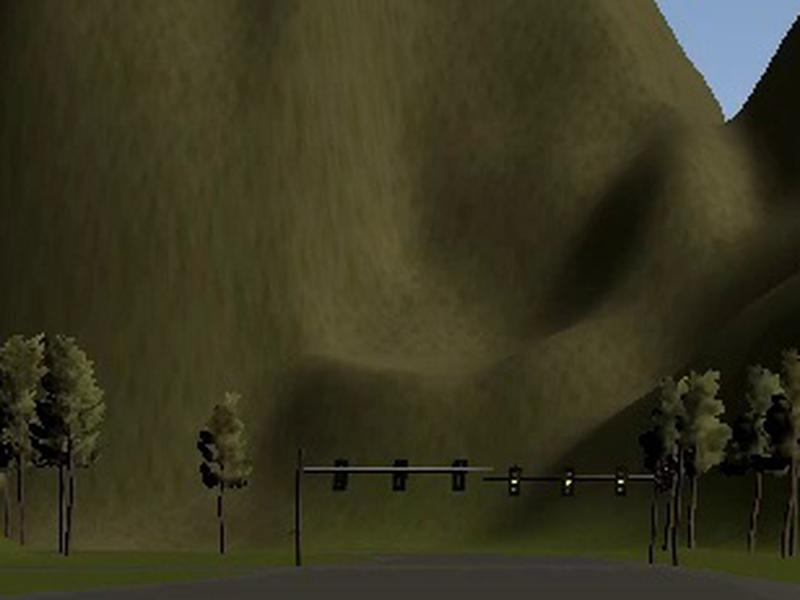Yellow: (561, 468, 574, 496), (614, 469, 626, 496), (509, 468, 520, 495)
